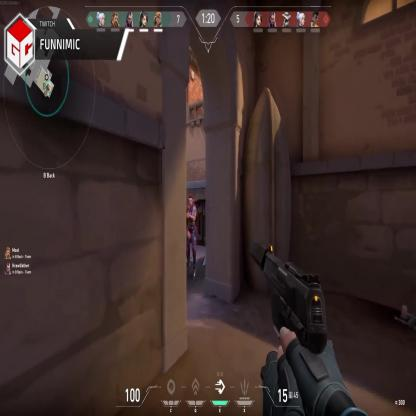enemy: (183, 194, 198, 278)
enemy_head: (188, 194, 194, 206)
